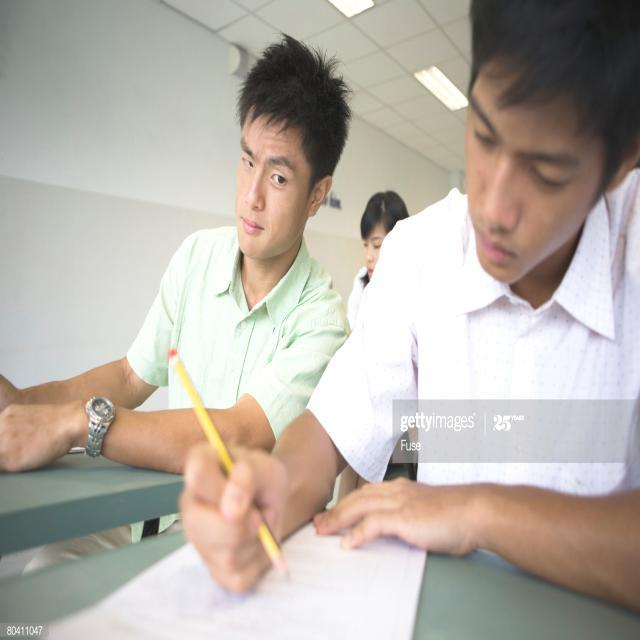cheating: (206, 23, 354, 296)
